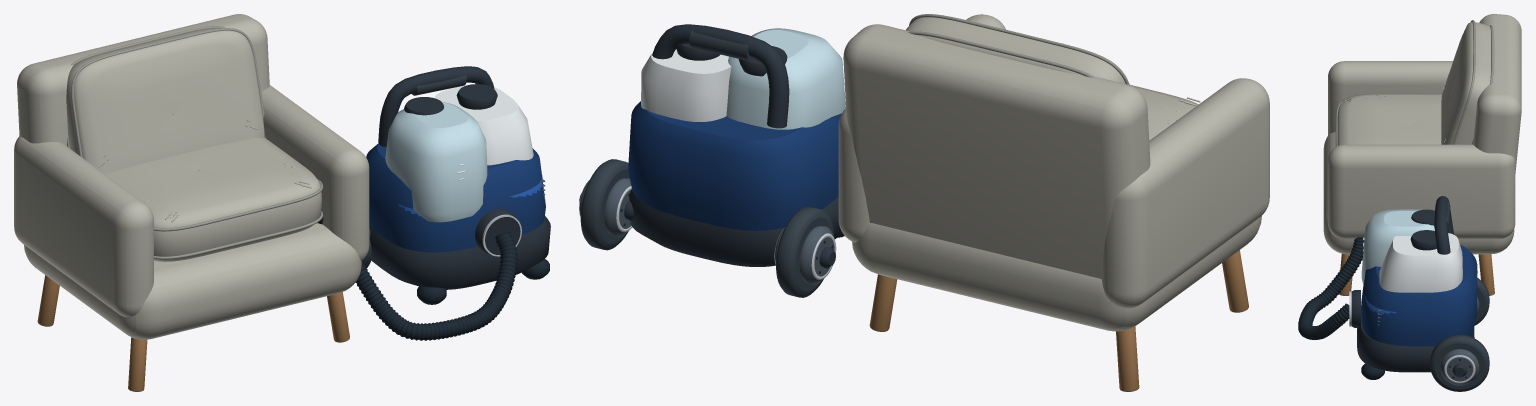
Rendered from extractor.glb.
The picture shows the model from 3 angles, left to right: view 1: azimuth 30°, elevation 25°; view 2: azimuth 150°, elevation 25°; view 3: azimuth 270°, elevation 25°; orthographic projection. The views are drawn at different scales.
Parts seen in each view (by area): view 1: Assembly • Stone weave, Assembly • Graphite, Assembly • Capacity plastic, Assembly • Deep blue, Assembly • Carbon, Assembly • Porcelain, Assembly • Stone piping, Assembly • Oak, Assembly • Soft rubber; view 2: Assembly • Stone weave, Assembly • Deep blue, Assembly • Graphite, Assembly • Capacity plastic, Assembly • Soft rubber, Assembly • Porcelain, Assembly • Oak, Assembly • Slate, Assembly • Stone piping, Assembly • Nickel; view 3: Assembly • Stone weave, Assembly • Deep blue, Assembly • Graphite, Assembly • Porcelain, Assembly • Carbon, Assembly • Soft rubber, Assembly • Capacity plastic, Assembly • Slate, Assembly • Oak, Assembly • Stone piping, Assembly • Nickel.
Boxes of the visible parts, x1,y1,x2,y2 form: Assembly • Stone weave: [14, 14, 369, 339]; Assembly • Graphite: [369, 66, 550, 289]; Assembly • Capacity plastic: [385, 102, 487, 222]; Assembly • Deep blue: [366, 143, 545, 252]; Assembly • Carbon: [317, 209, 549, 340]; Assembly • Porcelain: [434, 84, 533, 187]; Assembly • Stone piping: [67, 26, 323, 259]; Assembly • Oak: [37, 275, 349, 391]; Assembly • Soft rubber: [362, 75, 466, 268]; Assembly • Stone weave: [838, 14, 1269, 331]; Assembly • Deep blue: [628, 101, 841, 230]; Assembly • Graphite: [579, 24, 842, 268]; Assembly • Capacity plastic: [726, 28, 845, 129]; Assembly • Soft rubber: [580, 30, 834, 297]; Assembly • Porcelain: [641, 49, 731, 121]; Assembly • Oak: [869, 250, 1248, 391]; Assembly • Slate: [579, 178, 834, 284]; Assembly • Stone piping: [908, 14, 1129, 84]; Assembly • Nickel: [579, 180, 836, 279]; Assembly • Stone weave: [1323, 14, 1521, 254]; Assembly • Deep blue: [1361, 244, 1477, 346]; Assembly • Graphite: [1351, 196, 1474, 377]; Assembly • Porcelain: [1363, 233, 1462, 292]; Assembly • Carbon: [1298, 237, 1470, 379]; Assembly • Soft rubber: [1430, 201, 1489, 391]; Assembly • Capacity plastic: [1361, 209, 1434, 285]; Assembly • Slate: [1377, 297, 1479, 385]; Assembly • Oak: [1339, 253, 1494, 295]; Assembly • Stone piping: [1335, 20, 1493, 146]; Assembly • Nickel: [1349, 291, 1475, 383].
Size of the model in its own units: 1.38 by 0.7149 by 0.6839.
